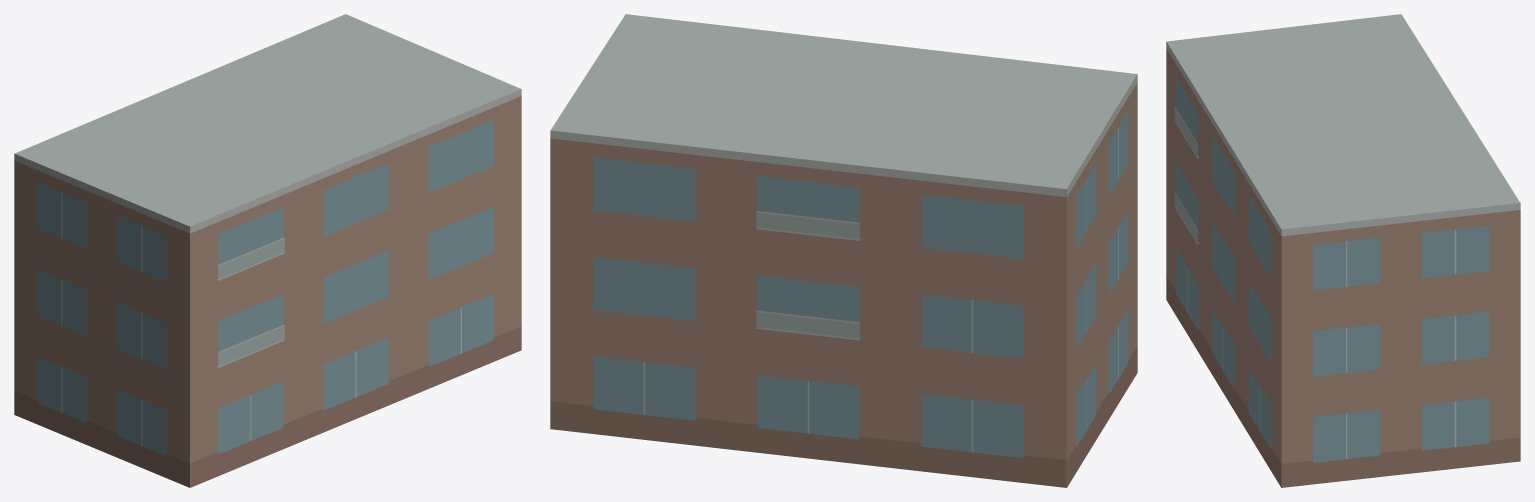
File: survey-upis-32717047.glb
The picture shows the model from 3 angles, left to right: view 1: azimuth 30°, elevation 25°; view 2: azimuth 150°, elevation 25°; view 3: azimuth 270°, elevation 25°; orthographic projection. The views are drawn at different scales.
Visible parts, largest first — view 1: survey-upis-32717047.tmp; view 2: survey-upis-32717047.tmp; view 3: survey-upis-32717047.tmp.
Part boxes in pixels (<box>): survey-upis-32717047.tmp: <box>14,14,521,487</box>; survey-upis-32717047.tmp: <box>550,14,1137,487</box>; survey-upis-32717047.tmp: <box>1166,14,1520,487</box>.
Size of the model in its own units: 16.38 by 9.15 by 11.38.
